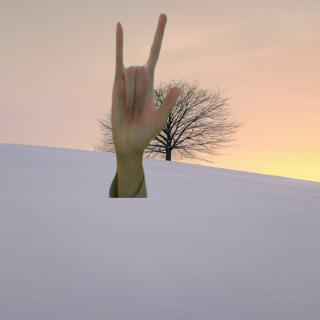ILY: (107, 10, 185, 161)
